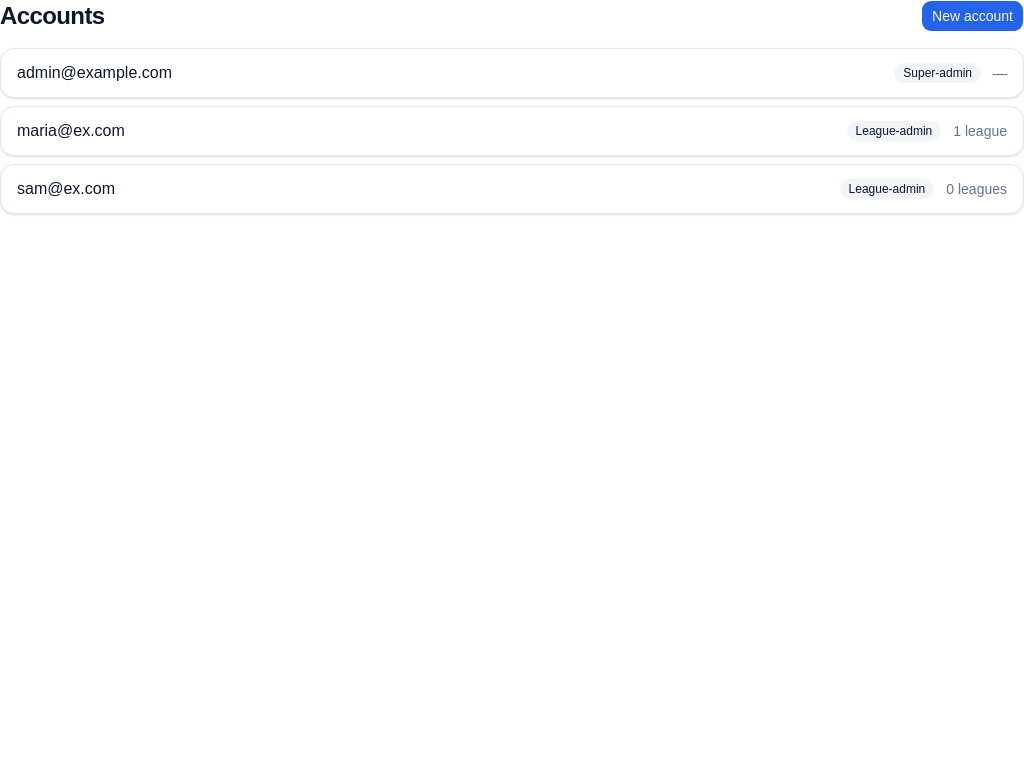
Scenario: a duplicate email surfaces the 409 inline
Click the button "New account". click: [973, 16]
box: [921,0,1023,32]
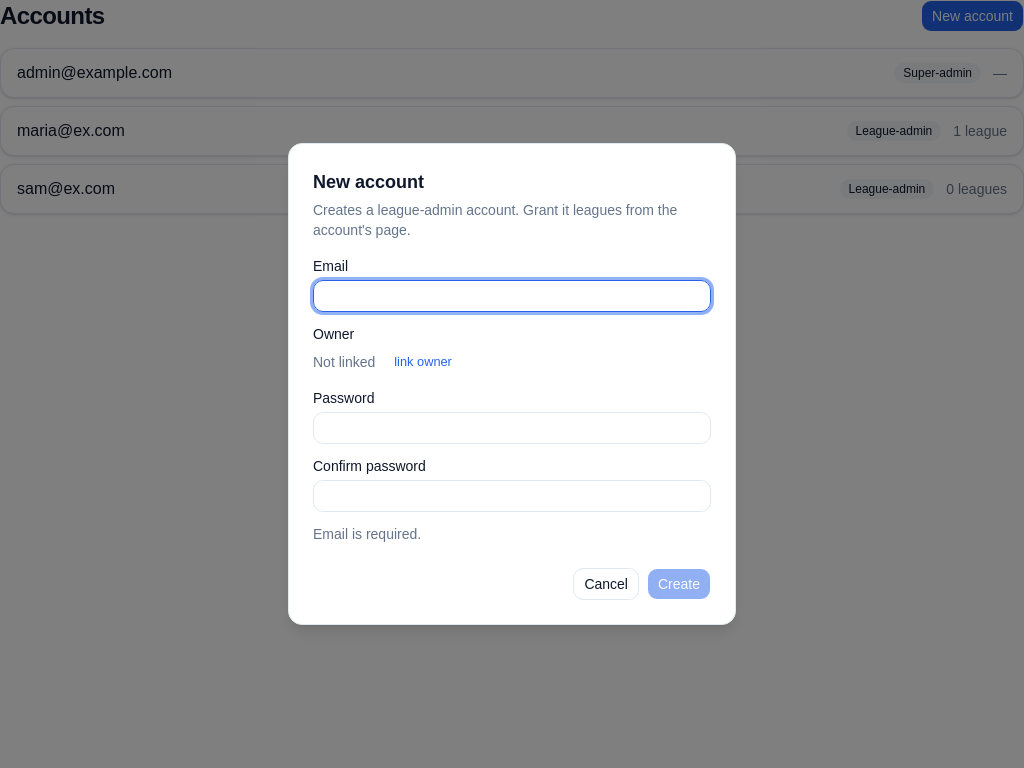
Type "dupe@ex.com" into the field labelled "Email". click: [512, 296]
box: [313,280,711,312]
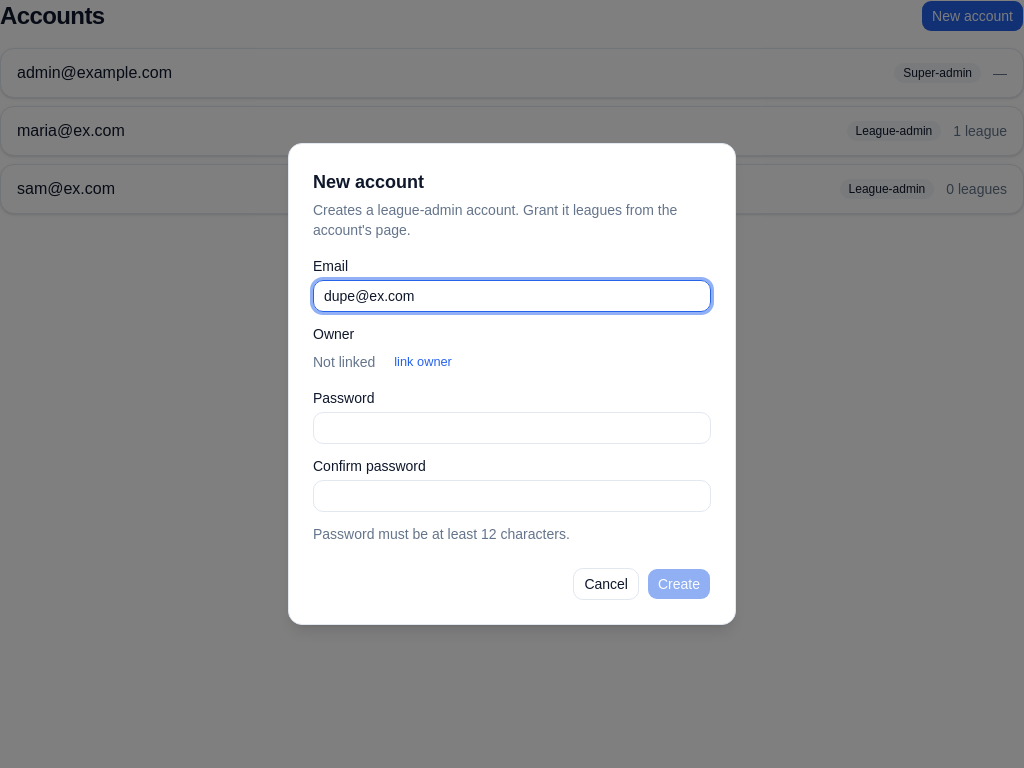
Type "longenoughpw123" into the password field labelled "Password". click: [512, 428]
box: [313,412,711,444]
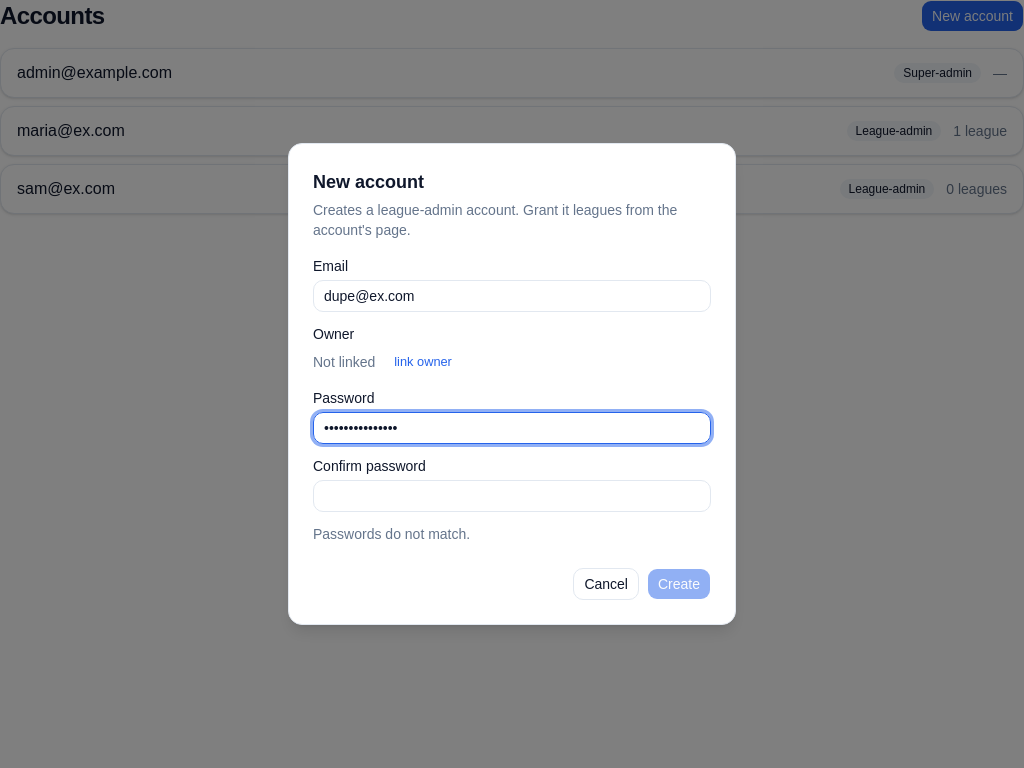
Type "longenoughpw123" into the password field labelled "Confirm password". click: [512, 496]
box: [313,480,711,512]
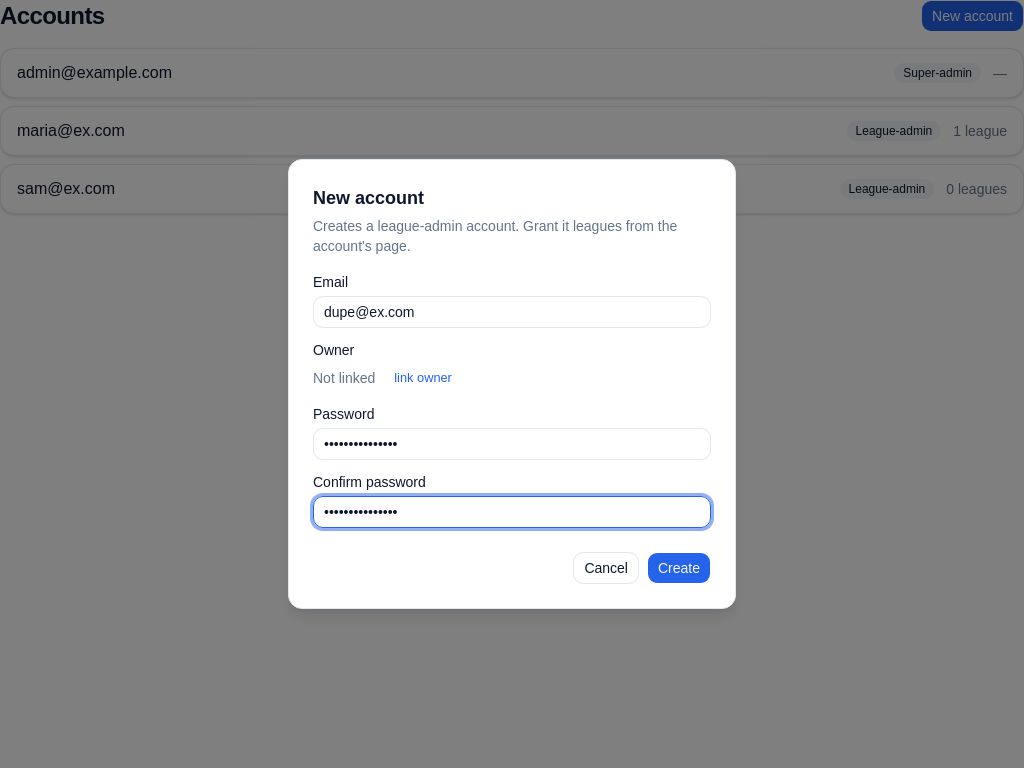
Click the button "Create". click: [679, 568]
box: [647,552,711,584]
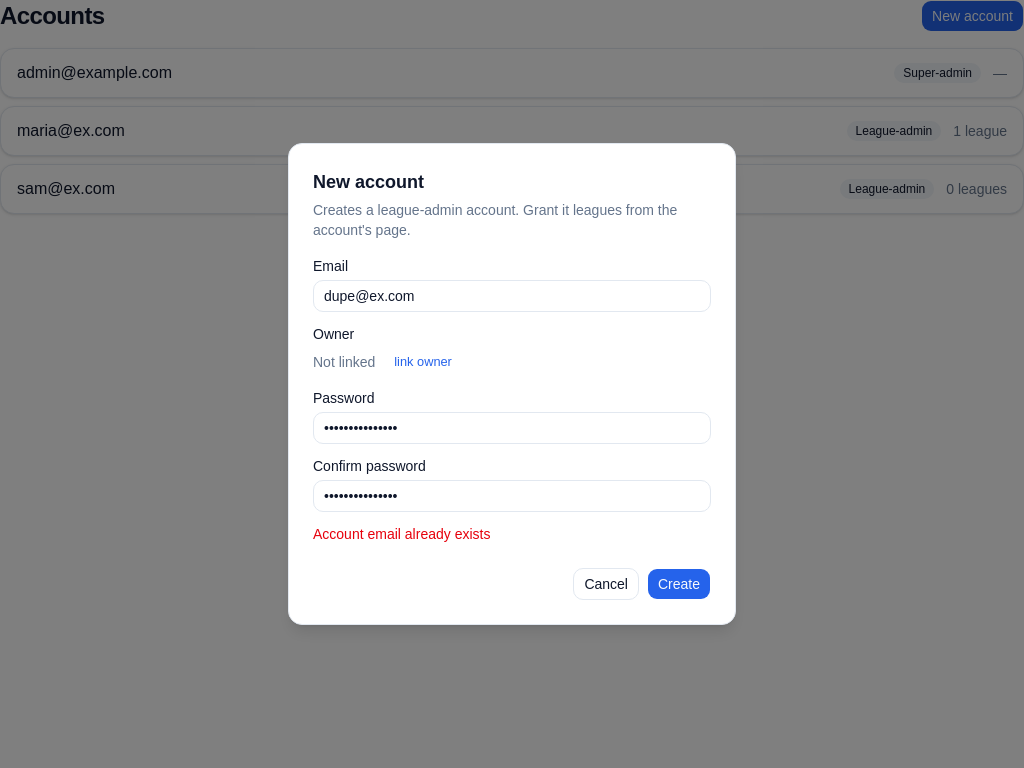
Now the text "Account email already exists" is shown, box [313,526,490,542]
